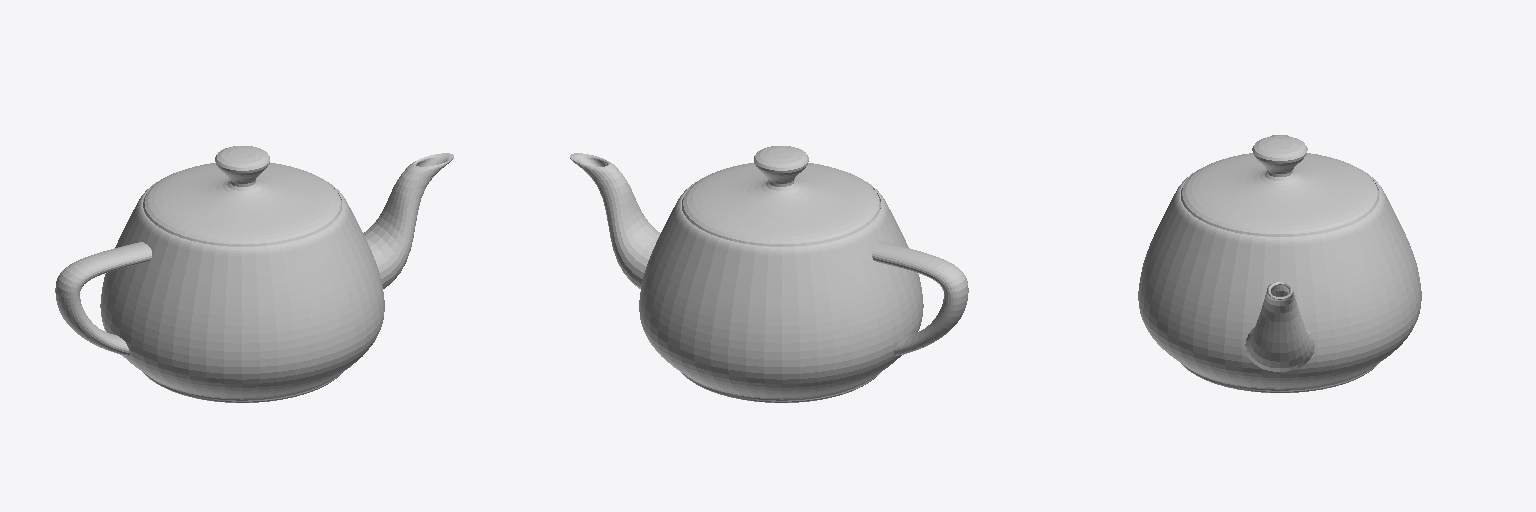
Rendered from teapot.obj.
The picture shows the model from 3 angles: view 1: azimuth 30°, elevation 25°; view 2: azimuth 150°, elevation 25°; view 3: azimuth 270°, elevation 25°; orthographic projection.
Parts seen in each view (by area): view 1: teapot; view 2: teapot; view 3: teapot.
Part boxes in pixels (x1,y1,x2,y2): teapot: (55,146,453,402); teapot: (570,146,968,402); teapot: (1138,135,1421,392).
Size of the model in its own units: 154 by 79.01 by 95.86.